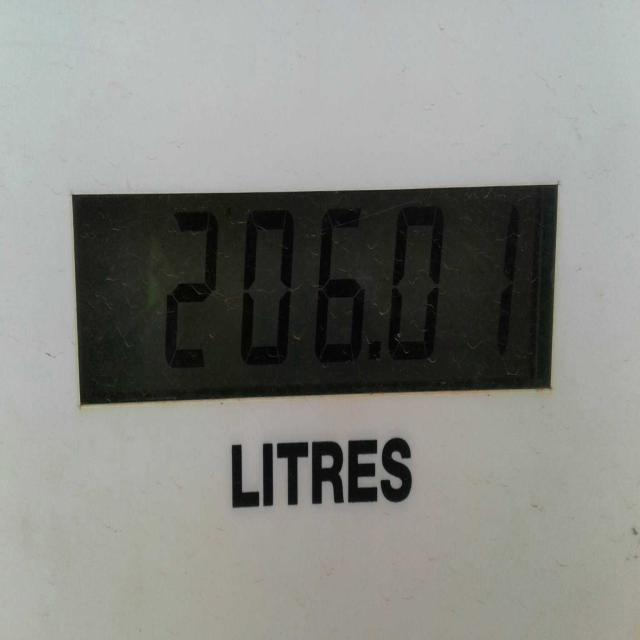.: (371, 336, 383, 362)
0: (388, 203, 443, 362), (238, 215, 294, 368)
1: (490, 198, 517, 364)
2: (167, 216, 213, 362)
6: (318, 204, 370, 383)
